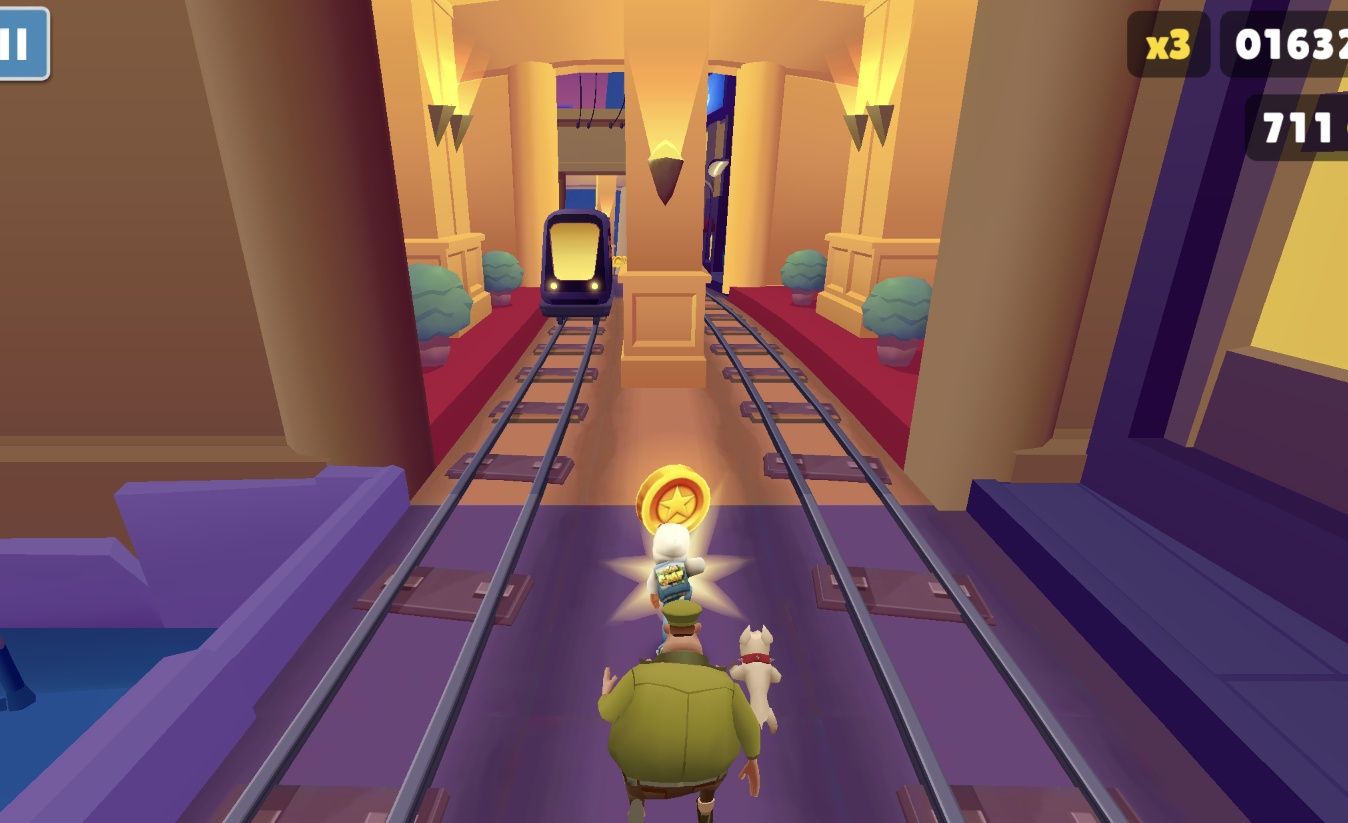pillar: (617, 50, 711, 400)
train: (532, 213, 610, 323)
